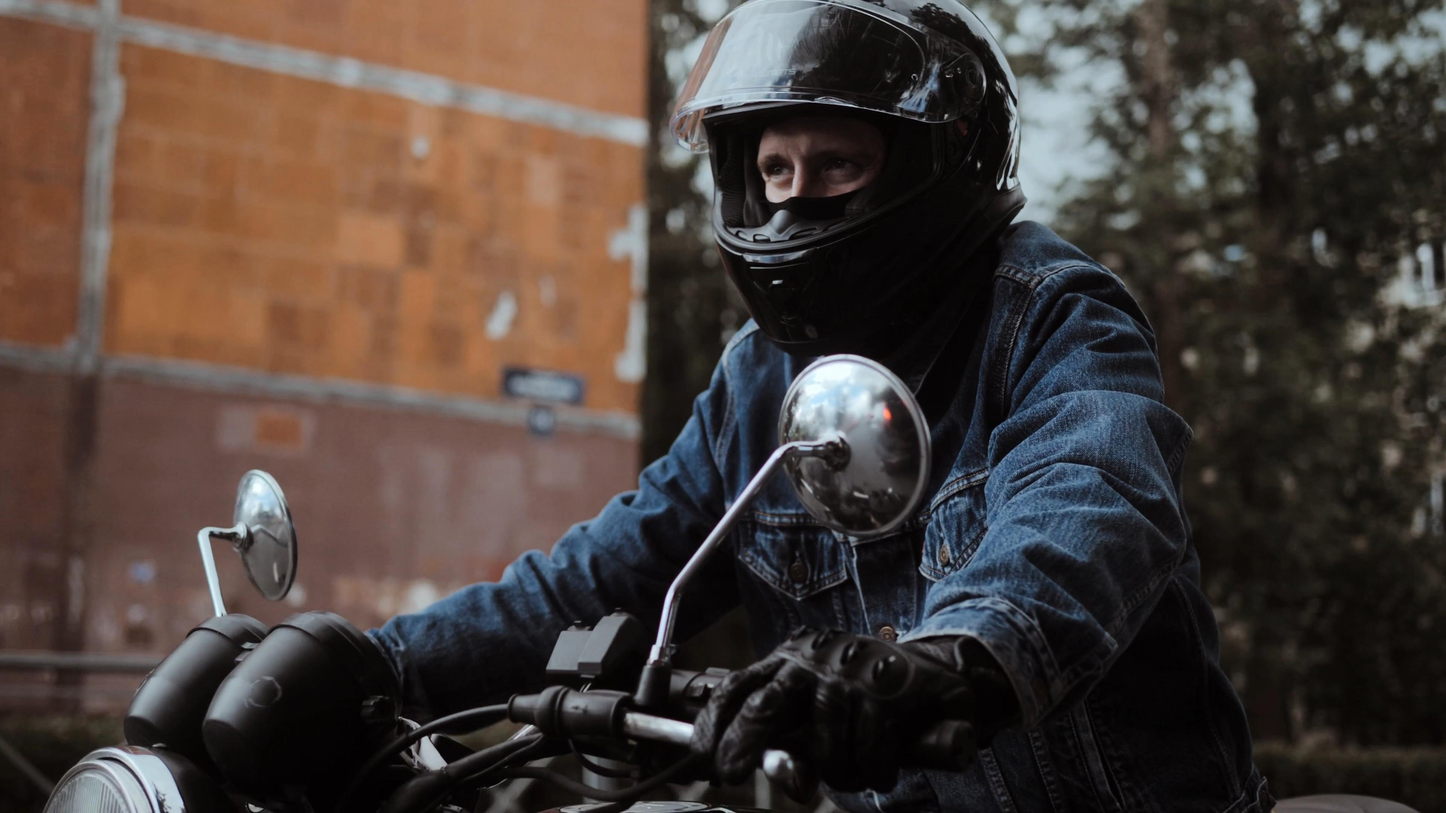driver: (1, 0, 1281, 813)
helmet: (669, 0, 1026, 360)
